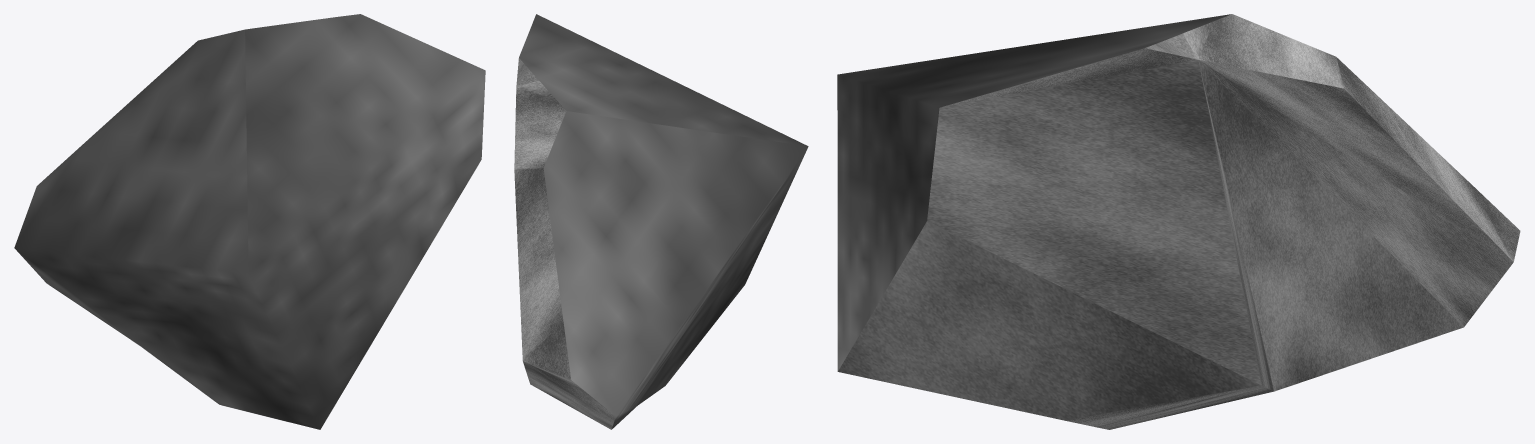
The model's file is leg_2_cell.fbx.
3 views of the same model, side by side, from view 1: azimuth 30°, elevation 25°; view 2: azimuth 150°, elevation 25°; view 3: azimuth 270°, elevation 25° (orthographic). The views are drawn at different scales.
Visible parts, largest first — view 1: leg_2_cell; view 2: leg_2_cell; view 3: leg_2_cell.
Boxes of the visible parts, x1,y1,x2,y2 form: leg_2_cell: (14, 14, 485, 429); leg_2_cell: (514, 14, 808, 429); leg_2_cell: (837, 14, 1520, 429).
Bounding box in the file's own units: 21.65 × 25.34 × 32.11.
